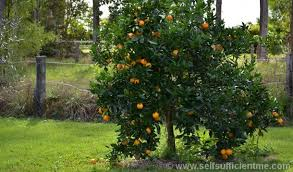orange: (171, 49, 179, 56)
